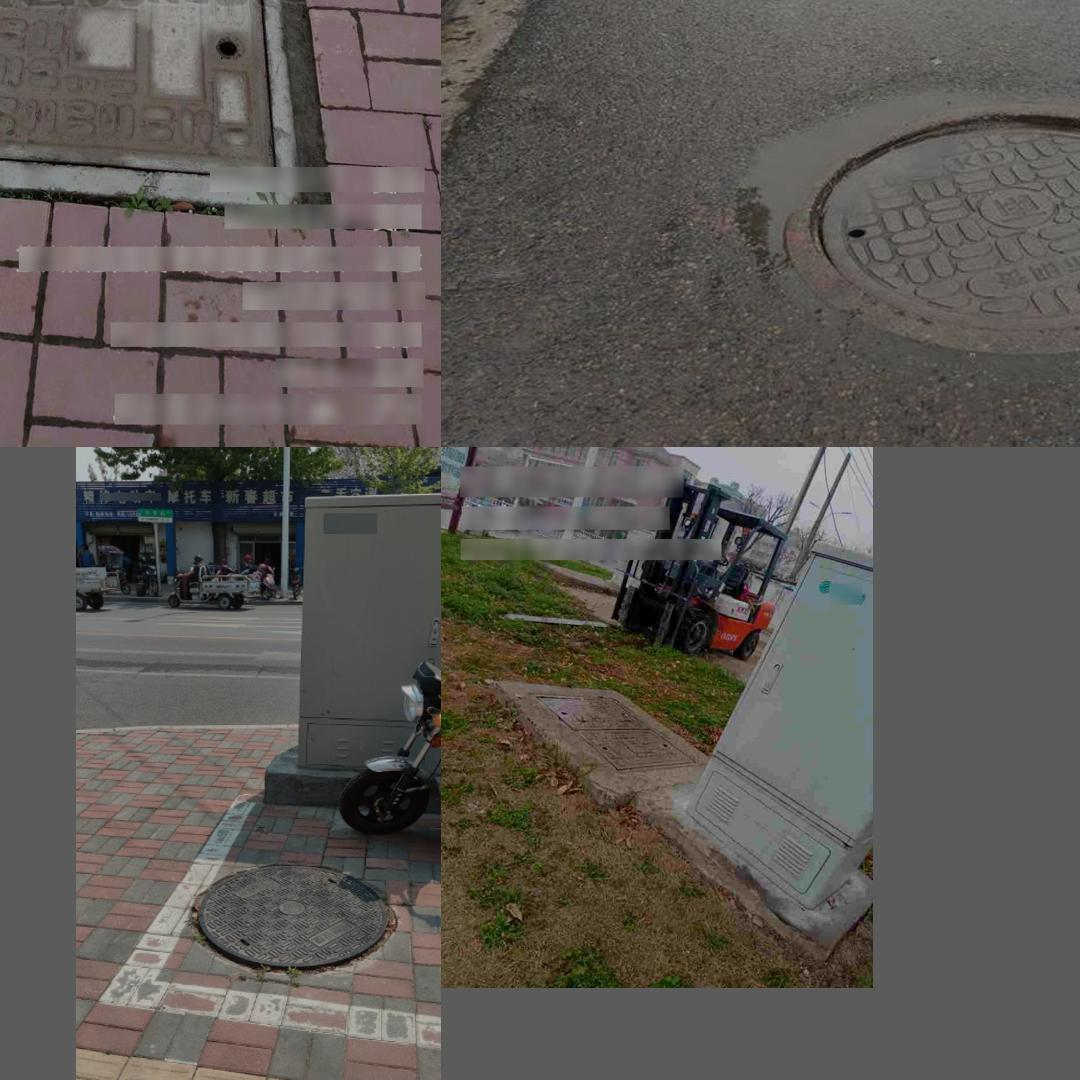good: (716, 79, 1080, 364), (0, 0, 269, 173), (197, 862, 388, 966), (532, 692, 703, 772)
